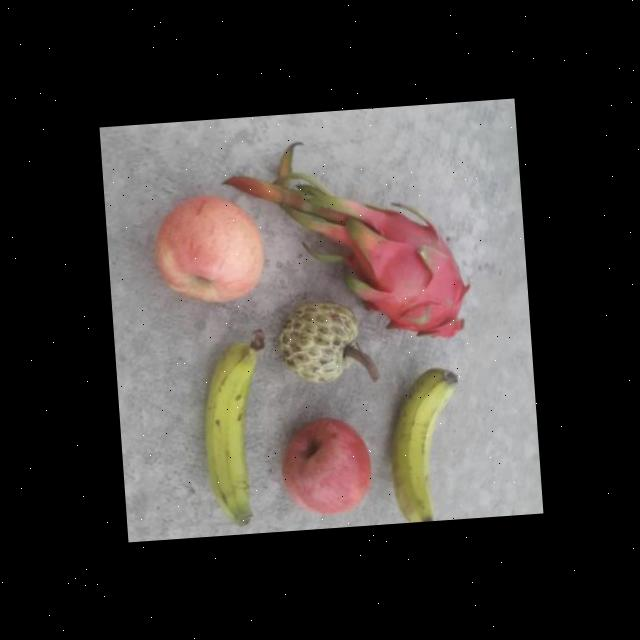Sakya fruit: (272, 292, 378, 392)
apple: (143, 186, 269, 312), (271, 411, 377, 518)
banana: (196, 324, 280, 536), (380, 362, 470, 523)
pitaya: (337, 198, 477, 349)
